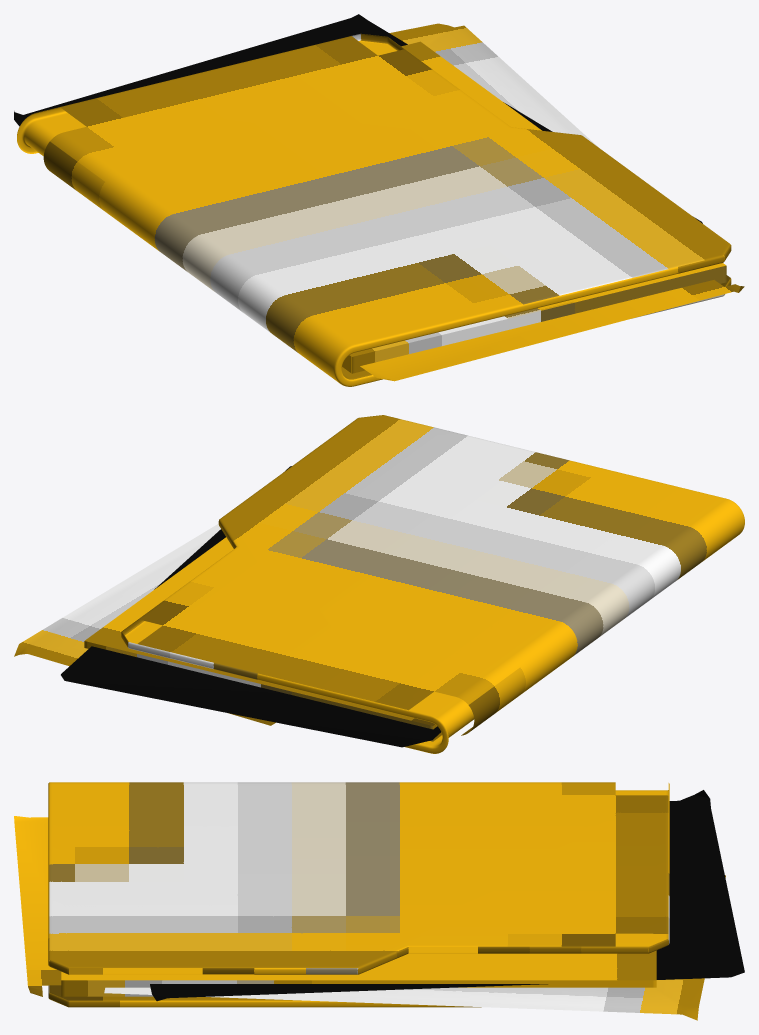
File: Folder.fbx
The picture shows the model from 3 angles, top to bottom: view 1: azimuth 30°, elevation 25°; view 2: azimuth 150°, elevation 25°; view 3: azimuth 270°, elevation 25°; orthographic projection. The views are drawn at different scales.
Visible parts, largest first — view 1: Folder_1Shape, A4_Paper_StackShape_8_0, A4_Page3Shape_2_0, A4_Page2Shape_4_0, A4_Page1Shape_6_0; view 2: Folder_1Shape, A4_Page1Shape_6_0, A4_Page2Shape_4_0, A4_Paper_StackShape_8_0; view 3: Folder_1Shape, A4_Page1Shape_6_0, A4_Paper_StackShape_8_0, A4_Page2Shape_4_0, A4_Page3Shape_2_0.
Boxes of the visible parts, x1,y1,x2,y2 form: Folder_1Shape: (17,33,731,386); A4_Paper_StackShape_8_0: (342,41,726,373); A4_Page3Shape_2_0: (360,280,744,381); A4_Page2Shape_4_0: (389,23,598,147); A4_Page1Shape_6_0: (14,14,702,223); Folder_1Shape: (121,415,744,753); A4_Page1Shape_6_0: (61,466,441,747); A4_Page2Shape_4_0: (14,524,275,725); A4_Paper_StackShape_8_0: (84,537,442,741); Folder_1Shape: (48,782,669,1007); A4_Page1Shape_6_0: (150,790,744,1001); A4_Paper_StackShape_8_0: (61,950,656,996); A4_Page2Shape_4_0: (104,875,725,1020); A4_Page3Shape_2_0: (14,816,61,996).
Size of the model in its own units: 255 by 22.01 by 365.
